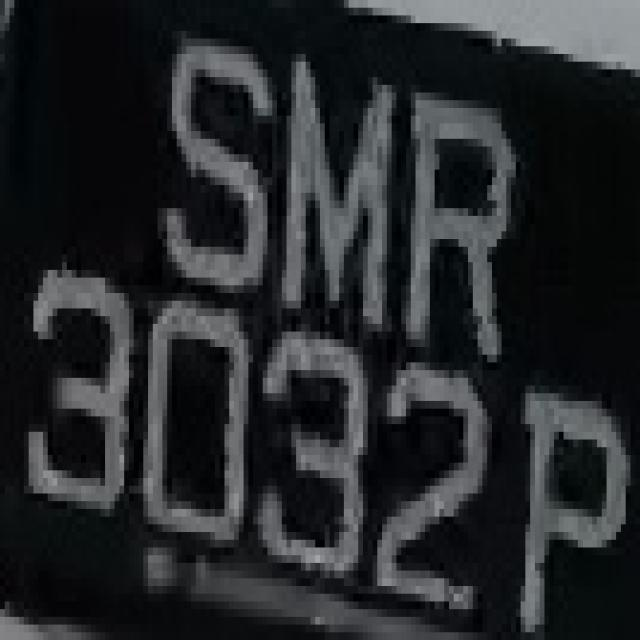0: (129, 278, 258, 555)
2: (373, 347, 487, 625)
3: (258, 324, 372, 601), (24, 239, 134, 524)
M: (273, 39, 397, 347)
P: (502, 370, 626, 632)
R: (401, 70, 516, 386)
S: (158, 8, 272, 300)
